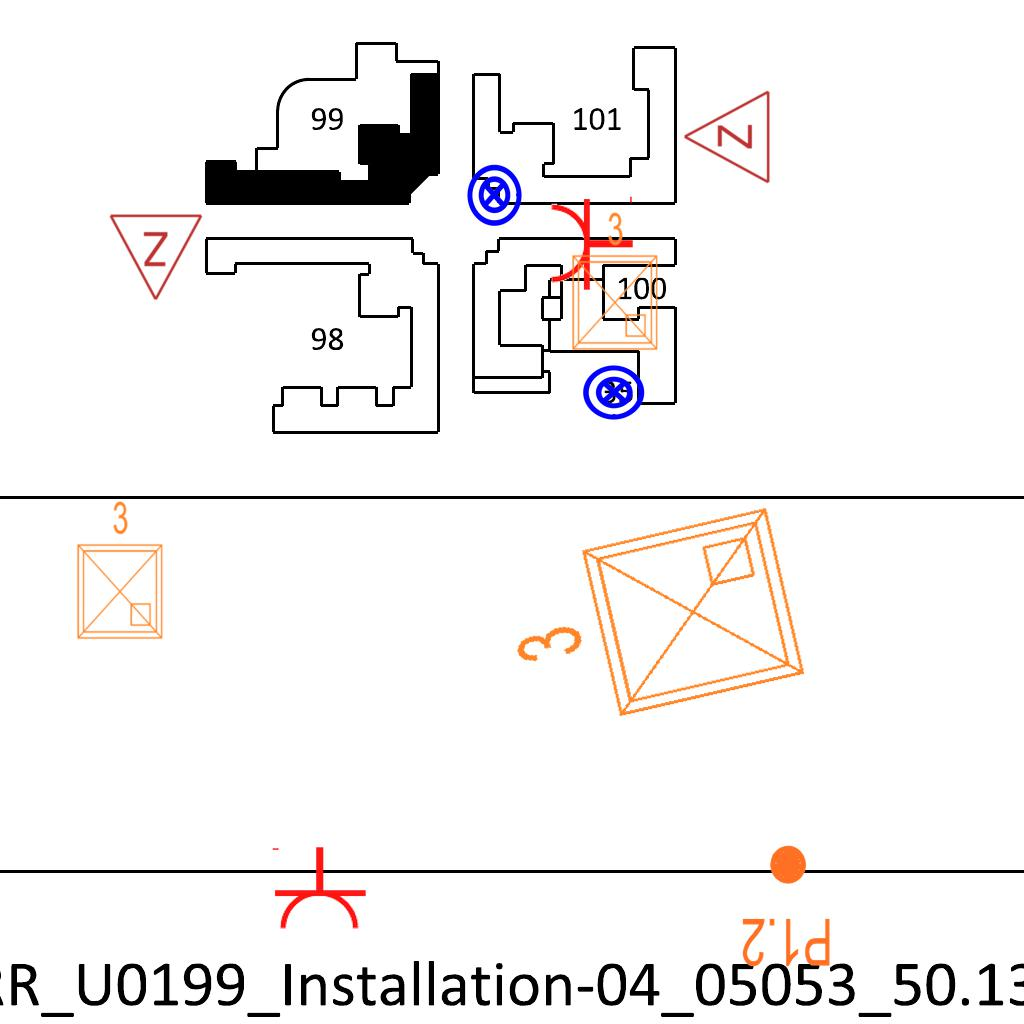Downlight_LED_Einbauleuchten_Flur: (740, 842, 833, 970)
Einbaudownlights_LED_Konferenzraeume: (484, 489, 824, 761), (66, 496, 170, 646), (561, 207, 665, 357)
Schukosteckdose_einfach: (268, 845, 368, 932), (548, 192, 635, 292)
Taster_beleuchtet: (581, 359, 647, 425), (461, 162, 527, 228)
Zimmersignalleuchte: (677, 89, 777, 187), (108, 207, 206, 307)
